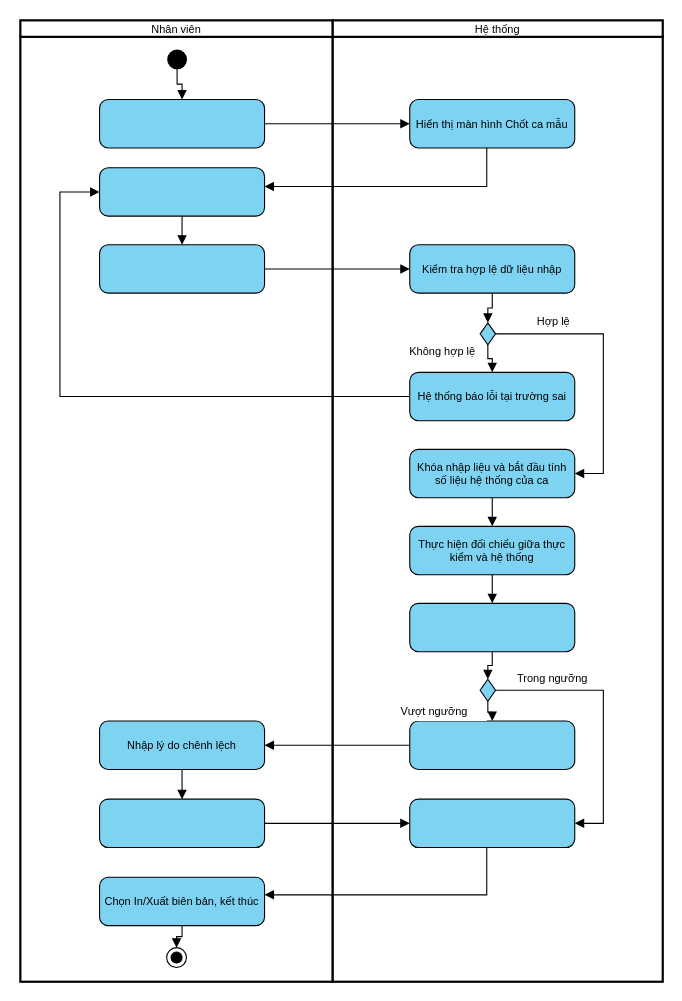
Some shapes in this 682 by 1001 pixel diagram are drawn without their labels. Each missing label, with the centre of its shape:
"Chọn chức năng Chốt ca" goes at point (181, 123).
"Hệ thống hiển thị màn hình nhập lý do" goes at point (492, 744).
"Kiểm tra chênh lệch có trong ngưỡng cho phép không" goes at point (492, 627).
"Nhấn Gửi chốt ca" goes at point (181, 268).
"Nhấn gửi lý do chênh lệch" goes at point (181, 823).
"Nhập số liệu thực kiểm theo từng phương thức" goes at point (181, 191).
"Tạo biên bản chốt ca, cập nhật trạng thái ca Đã chốt, lưu log." goes at point (492, 823).
